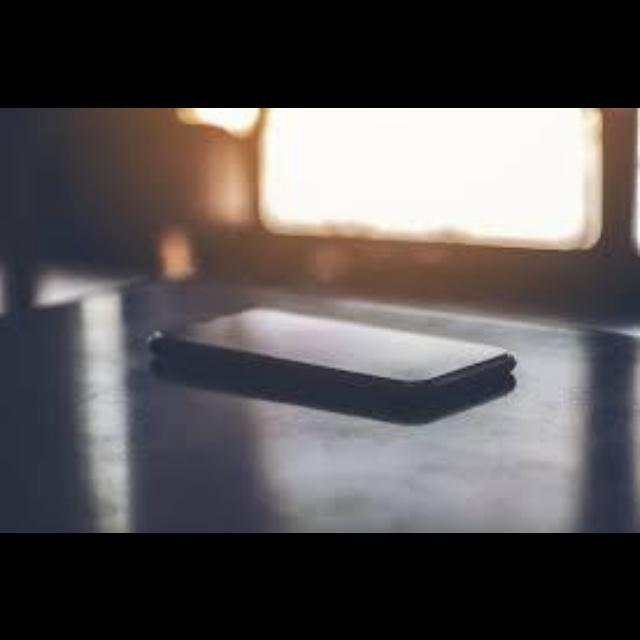Phone: (148, 306, 518, 406)
